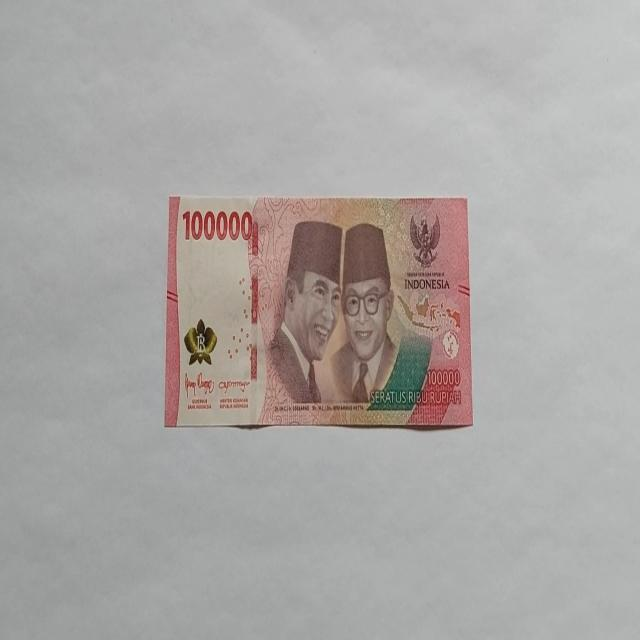seratus ribu rupiah: (164, 193, 473, 430)
